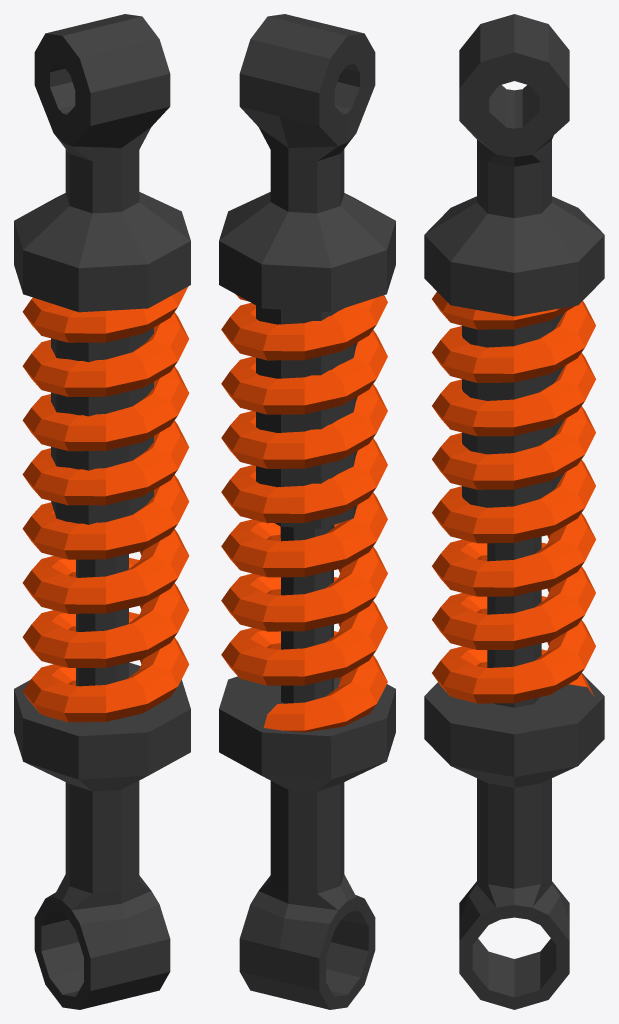
File: Spring.fbx
3 views of the same model, side by side, from view 1: azimuth 30°, elevation 25°; view 2: azimuth 150°, elevation 25°; view 3: azimuth 270°, elevation 25° (orthographic).
Visible parts, largest first — view 1: Spring, SpringTop, SpringBottom; view 2: Spring, SpringTop, SpringBottom; view 3: Spring, SpringTop, SpringBottom.
Boxes of the visible parts, x1,y1,x2,y2 form: Spring: [22, 286, 189, 722]; SpringTop: [14, 14, 190, 524]; SpringBottom: [14, 554, 190, 1009]; Spring: [221, 294, 387, 732]; SpringTop: [219, 14, 395, 528]; SpringBottom: [219, 525, 395, 1009]; Spring: [432, 292, 595, 703]; SpringTop: [424, 14, 604, 507]; SpringBottom: [424, 536, 604, 1009].
Size of the model in its own units: 0.0517 by 0.0517 by 0.3027.
